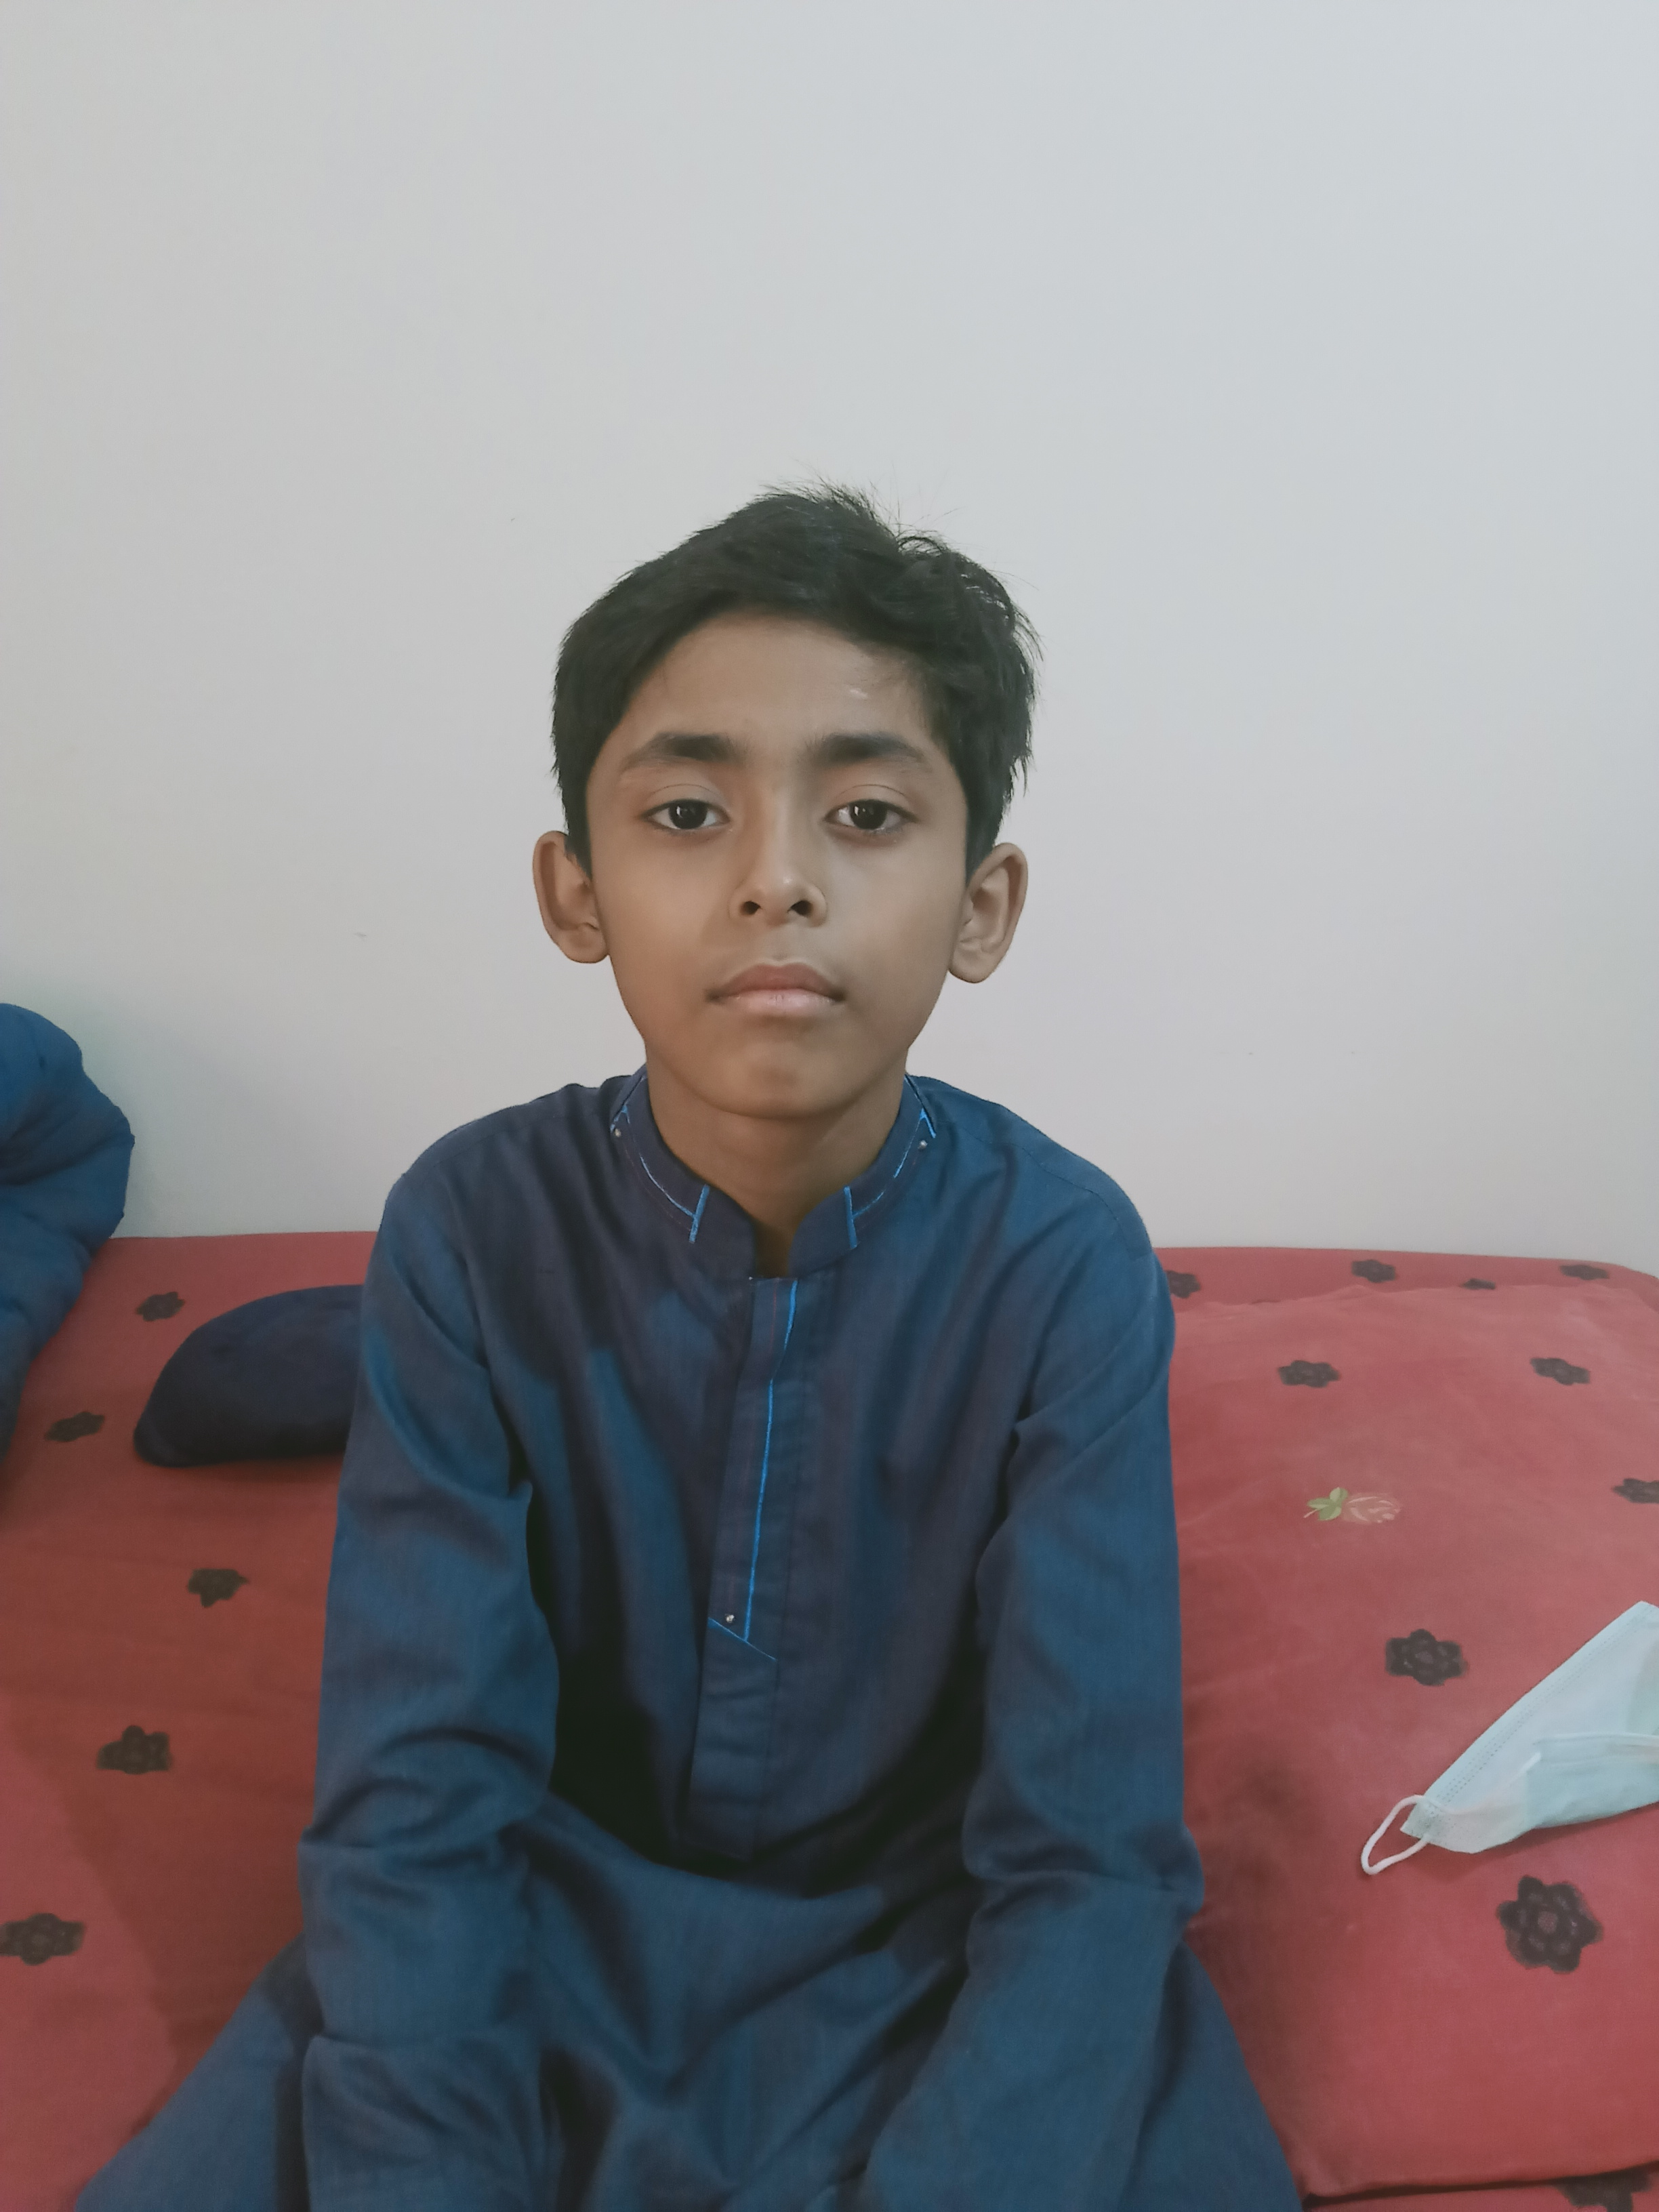NoMask: (616, 710, 941, 1113)
